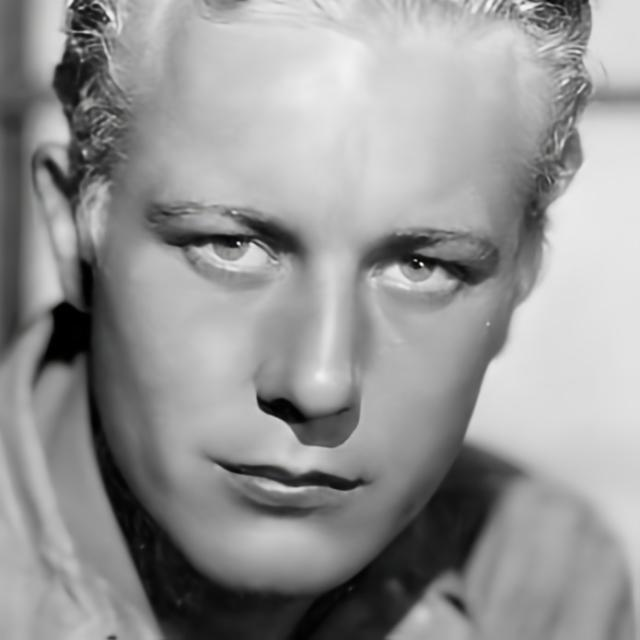neutral: (90, 0, 532, 591)
